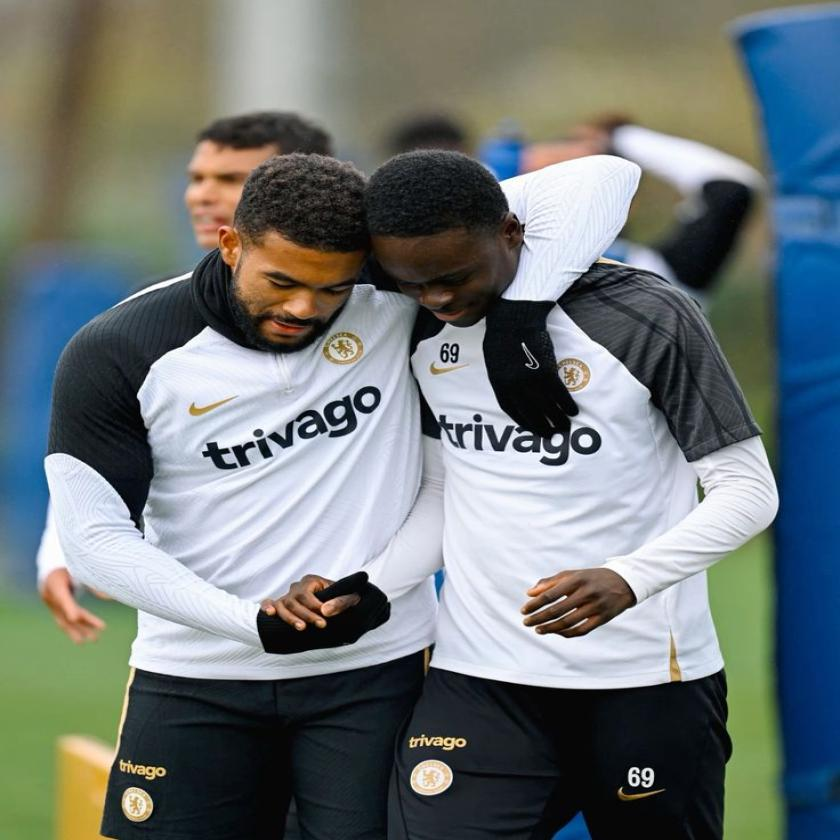Sin_casco: (222, 151, 382, 359), (366, 147, 526, 330), (182, 108, 342, 248)
